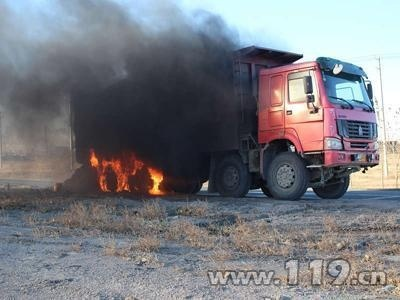fire: (88, 150, 166, 195)
